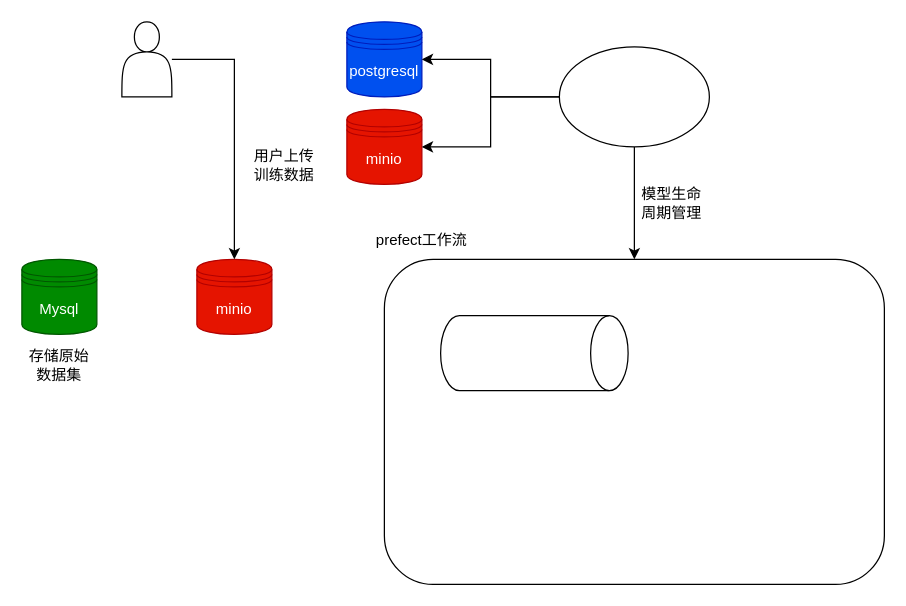
Image size: 906x606. Some labels were removed from this diagram. Here are the shapes that lost their labels. From the top down, the box of each, then its label:
(558, 46, 709, 147): MLFlow
(439, 314, 628, 391): Pipeline
